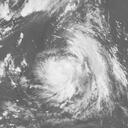cyclone: (38, 55, 87, 92)
